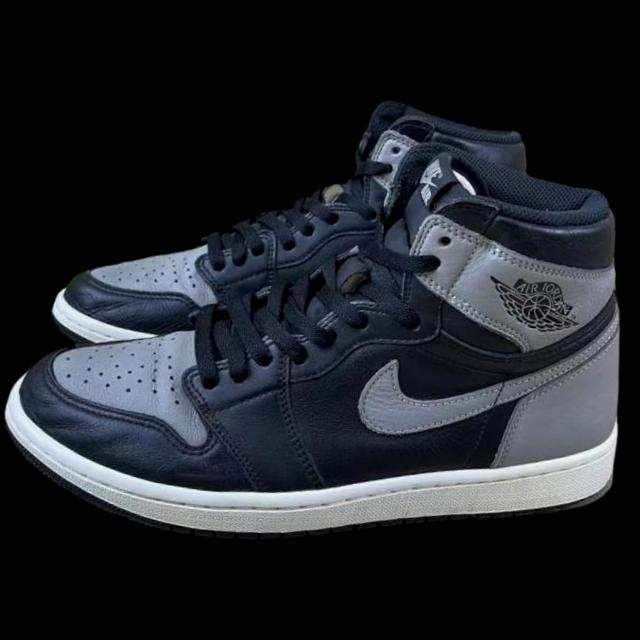nike_original_jordan: (0, 104, 640, 578), (48, 76, 532, 384)
